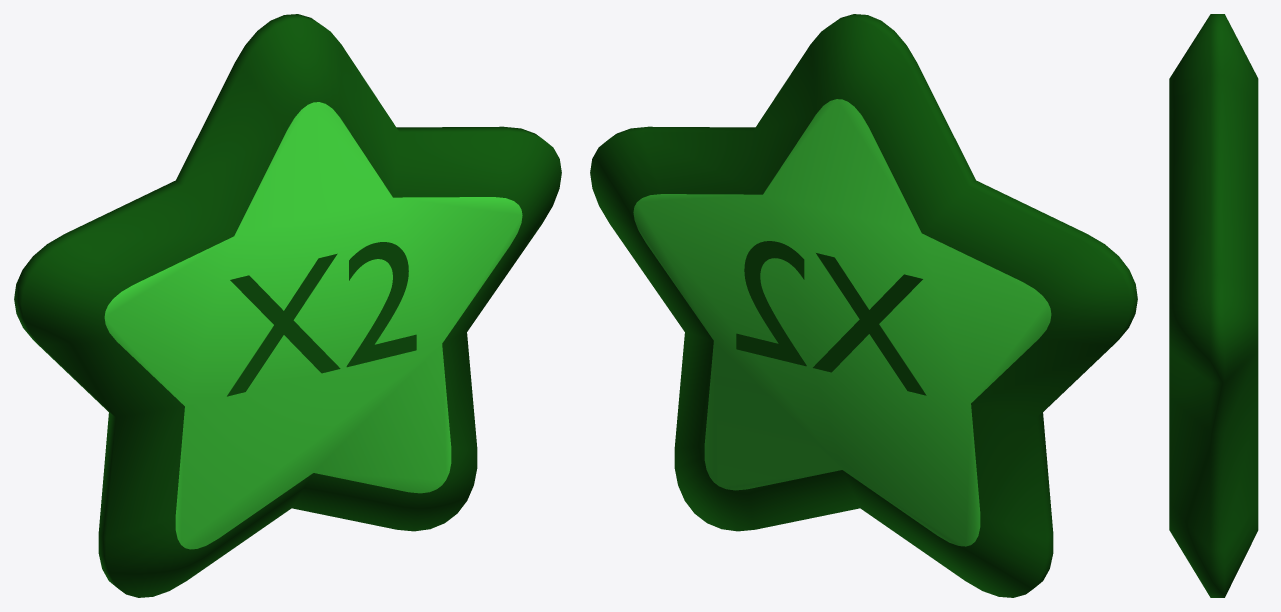
The model's file is starMultpliclator.glb.
3 views of the same model, side by side, from view 1: azimuth 30°, elevation 25°; view 2: azimuth 150°, elevation 25°; view 3: azimuth 270°, elevation 25° (orthographic). The views are drawn at different scales.
Parts seen in each view (by area): view 1: Cercle, Texte; view 2: Cercle, Texte.001; view 3: Cercle.
Boxes of the visible parts, x1,y1,x2,y2 form: Cercle: (14,14,561,597); Texte: (227,242,416,396); Cercle: (590,14,1137,597); Texte.001: (736,241,926,395); Cercle: (1169,14,1258,597).
Bounding box in the file's own units: 1.64 × 1.58 × 0.2797.
